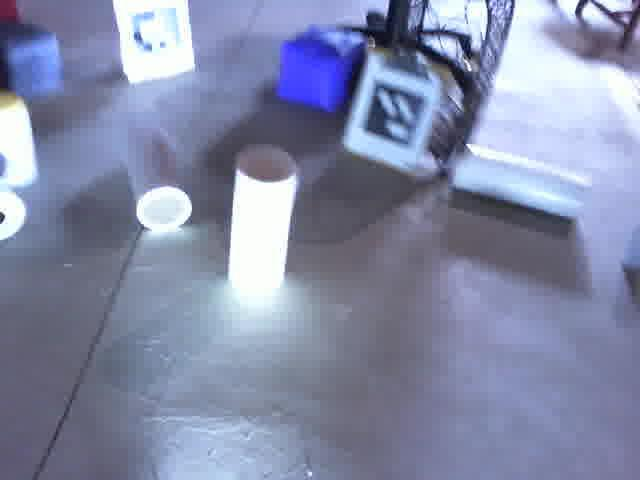coral: (228, 146, 297, 301), (118, 125, 194, 231)
